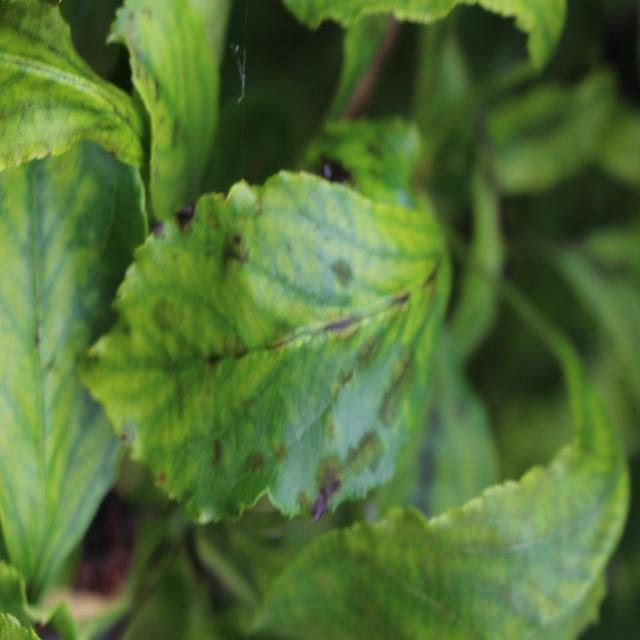rust: (76, 117, 454, 527)
